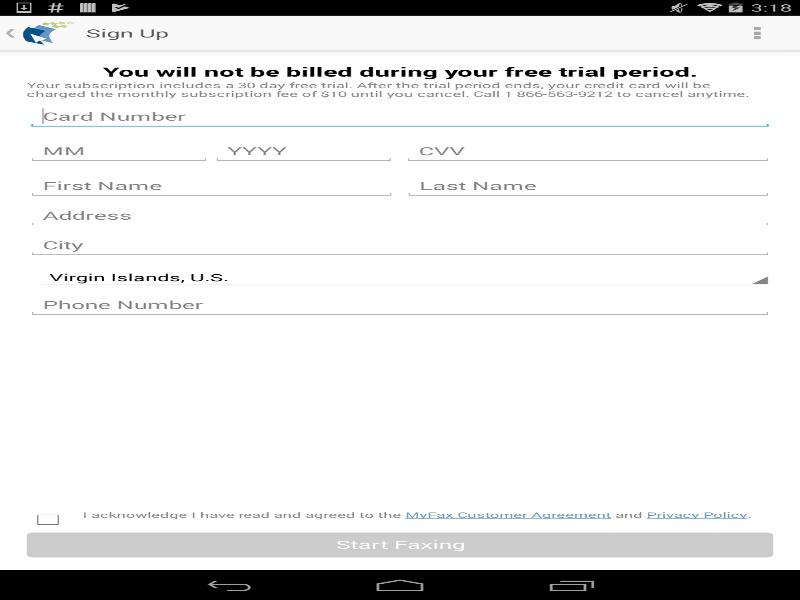Button: (26, 532, 773, 557), (714, 15, 800, 50)
Input: (26, 232, 773, 257), (26, 292, 773, 317), (26, 104, 773, 128), (26, 203, 773, 227), (402, 138, 773, 163), (26, 173, 396, 198), (403, 173, 773, 198), (26, 138, 211, 163), (211, 138, 396, 163)
